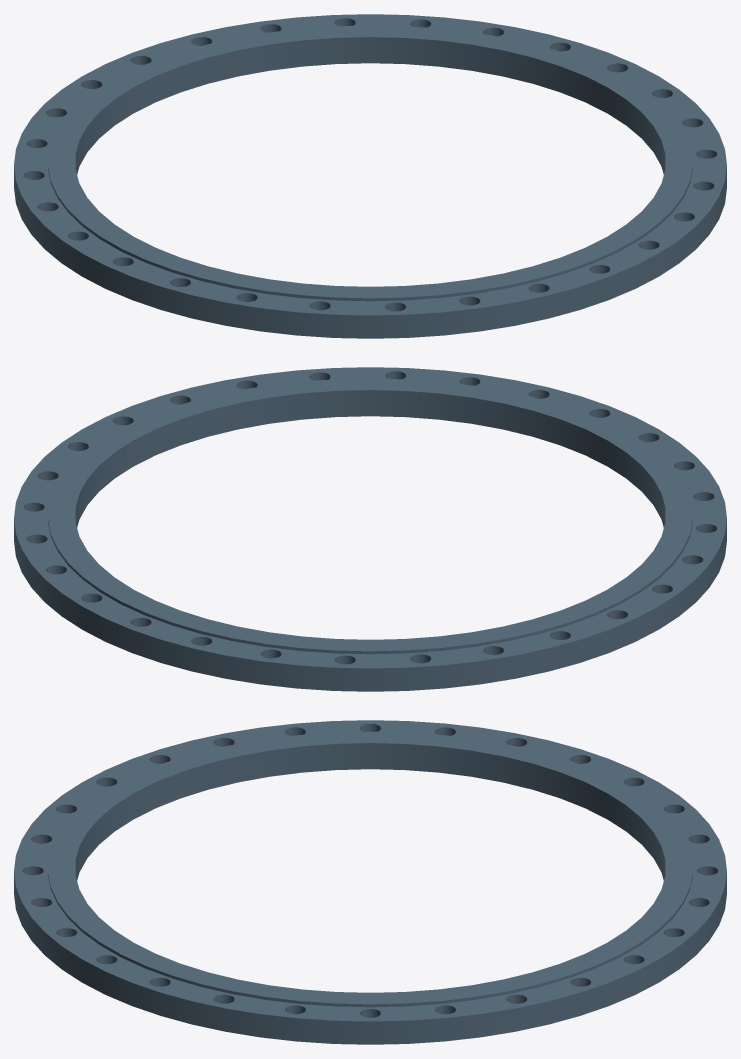
Rendered from flanec-ploskij-DN900-PN10.glb.
The picture shows the model from 3 angles, top to bottom: view 1: azimuth 30°, elevation 25°; view 2: azimuth 150°, elevation 25°; view 3: azimuth 270°, elevation 25°; orthographic projection.
Parts seen in each view (by area): view 1: Open CASCADE STEP translator 7.9 64; view 2: Open CASCADE STEP translator 7.9 64; view 3: Open CASCADE STEP translator 7.9 64.
Part boxes in pixels (x1=…): Open CASCADE STEP translator 7.9 64: x1=14, y1=14, x2=726, y2=338; Open CASCADE STEP translator 7.9 64: x1=14, y1=367, x2=726, y2=691; Open CASCADE STEP translator 7.9 64: x1=14, y1=720, x2=726, y2=1044.
Bounding box in the file's own units: 1110 × 45 × 1110.
